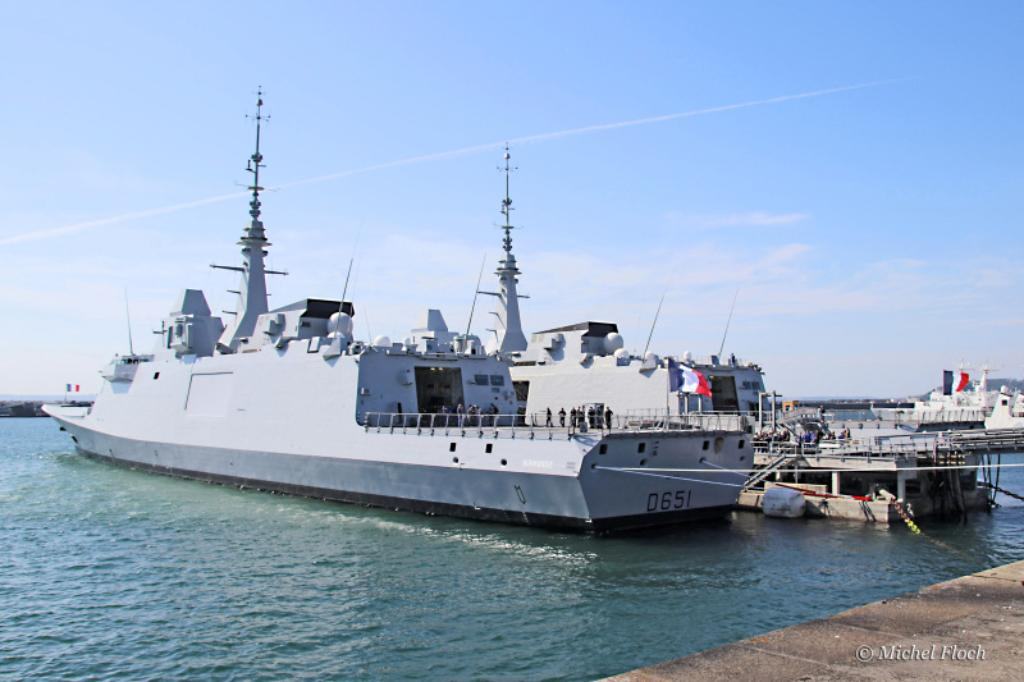Warship: (42, 77, 776, 545), (408, 134, 990, 466)
